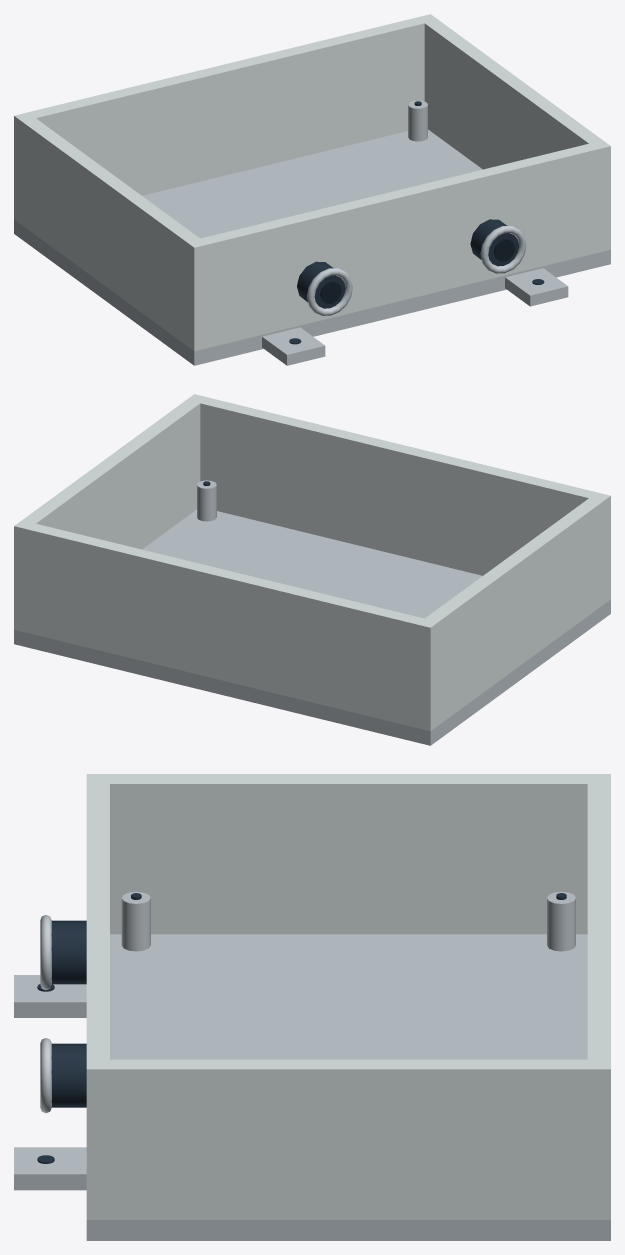
Rendered from shell.glb.
The picture shows the model from 3 angles, top to bottom: view 1: azimuth 30°, elevation 25°; view 2: azimuth 150°, elevation 25°; view 3: azimuth 270°, elevation 25°; orthographic projection. The views are drawn at different scales.
Visible parts, largest first — view 1: HousingWallZ0.086, HousingWallZ-0.086, HousingBase, HousingWallX-0.116, HousingWallX0.116, MountLug-0.07, MountLug0.07, CableGland-0.05, CableGland0.05, GlandCollar-0.05, GlandCollar0.05, BoardBoss_0.103_-0.073; view 2: HousingWallZ-0.086, HousingWallZ0.086, HousingBase, HousingWallX-0.116, HousingWallX0.116, BoardBoss_0.103_0.073; view 3: HousingWallX0.116, HousingWallX-0.116, HousingBase, HousingWallZ-0.086, HousingWallZ0.086, MountLug0.07, MountLug-0.07, CableGland0.05, CableGland-0.05, BoardBoss_-0.103_0.073, BoardBoss_-0.103_-0.073, GlandCollar-0.05 (+1 smaller).
Boxes of the visible parts, <box> form: HousingWallZ0.086: <box>186,140,610,351</box>; HousingWallZ-0.086: <box>14,14,437,224</box>; HousingBase: <box>14,129,610,365</box>; HousingWallX-0.116: <box>22,118,199,344</box>; HousingWallX0.116: <box>424,20,602,169</box>; MountLug-0.07: <box>262,327,325,365</box>; MountLug0.07: <box>505,268,568,306</box>; CableGland-0.05: <box>297,261,345,308</box>; CableGland0.05: <box>470,219,518,266</box>; GlandCollar-0.05: <box>307,268,352,315</box>; GlandCollar0.05: <box>480,225,526,273</box>; BoardBoss_0.103_-0.073: <box>408,100,427,141</box>; HousingWallZ-0.086: <box>14,520,438,731</box>; HousingWallZ0.086: <box>187,394,610,604</box>; HousingBase: <box>14,509,610,745</box>; HousingWallX-0.116: <box>425,498,602,724</box>; HousingWallX0.116: <box>22,400,200,549</box>; BoardBoss_0.103_0.073: <box>197,480,216,521</box>; HousingWallX0.116: <box>110,1059,587,1219</box>; HousingWallX-0.116: <box>110,774,587,934</box>; HousingBase: <box>86,934,610,1240</box>; HousingWallZ-0.086: <box>587,774,610,1219</box>; HousingWallZ0.086: <box>86,774,109,1219</box>; MountLug0.07: <box>14,1147,86,1190</box>; MountLug-0.07: <box>14,975,86,1017</box>; CableGland0.05: <box>51,1043,86,1107</box>; CableGland-0.05: <box>51,920,86,984</box>; BoardBoss_-0.103_0.073: <box>121,891,150,951</box>; BoardBoss_-0.103_-0.073: <box>547,891,575,951</box>; GlandCollar-0.05: <box>40,915,51,990</box>.
Bounding box in the file's own units: 0.24 × 0.065 × 0.205.
